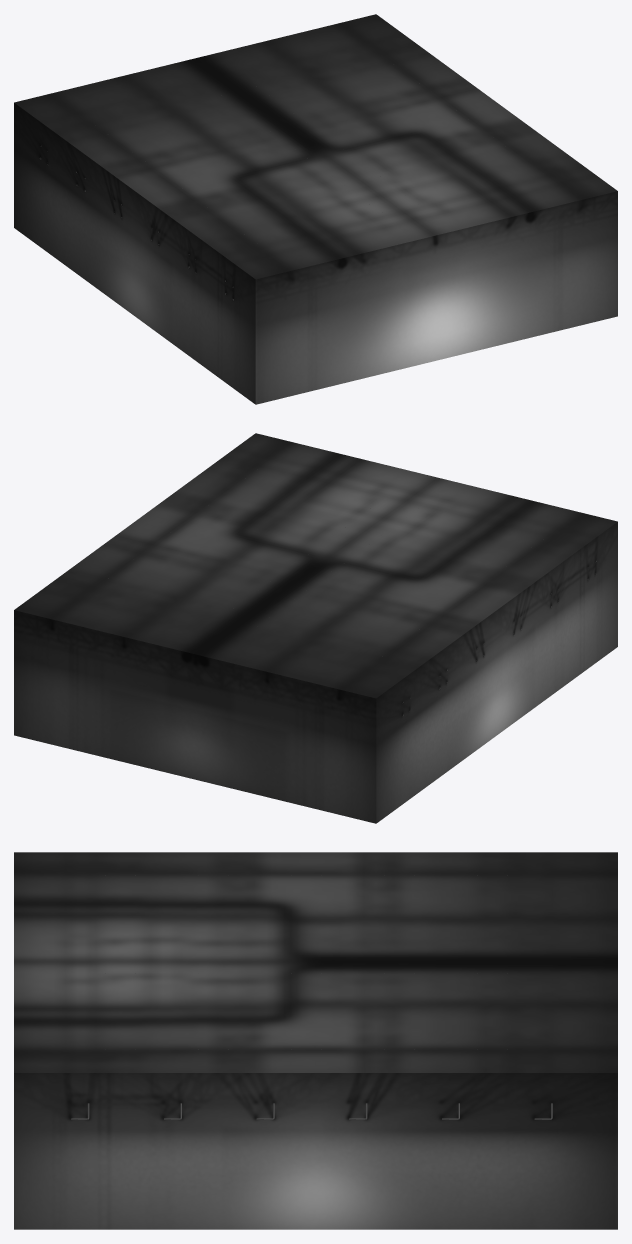
Rendered from industrial_gallery.fbx.
The picture shows the model from 3 angles, top to bottom: view 1: azimuth 30°, elevation 25°; view 2: azimuth 150°, elevation 25°; view 3: azimuth 270°, elevation 25°; orthographic projection. The views are drawn at different scales.
Visible parts, largest first — view 1: walls; view 2: walls; view 3: walls.
Boxes of the visible parts, box(x1,y1,x2,y2) form: walls: box(14, 14, 617, 404); walls: box(14, 433, 617, 823); walls: box(14, 852, 617, 1229).
Bounding box in the file's own units: 3373 × 1120 × 3894.
